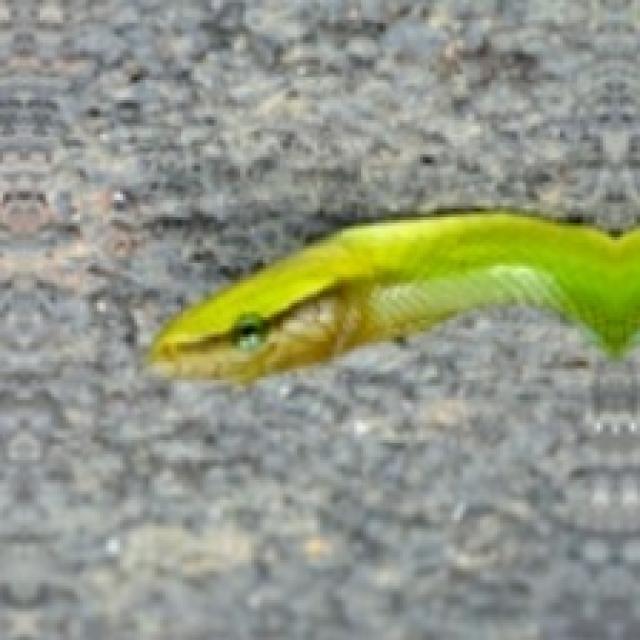red-tailed green ratsnake: (152, 214, 640, 382)
